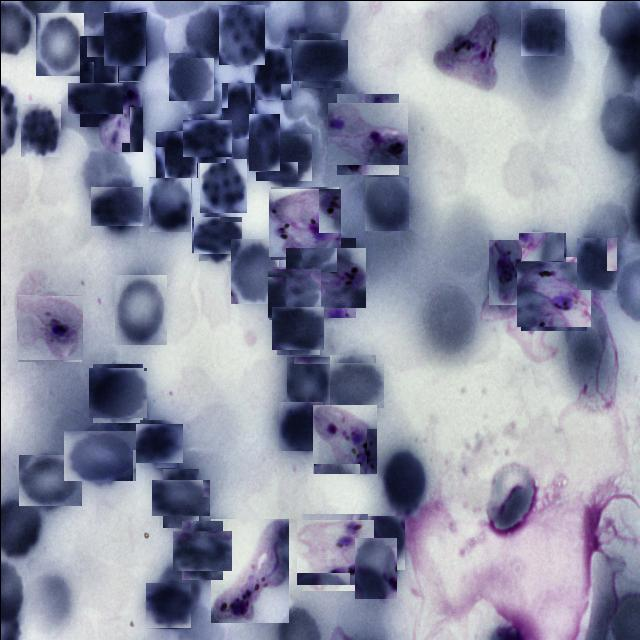red blood cell: (487, 459, 538, 536), (68, 424, 130, 486), (114, 274, 166, 344), (20, 451, 78, 508), (381, 447, 426, 517), (230, 238, 278, 303), (35, 12, 83, 75), (90, 366, 144, 420), (325, 358, 379, 411), (218, 4, 264, 64), (258, 130, 310, 182), (354, 538, 396, 600), (268, 266, 318, 318), (518, 231, 566, 284), (199, 158, 246, 212), (176, 524, 226, 574), (364, 176, 408, 230), (148, 176, 191, 231), (286, 355, 330, 408), (103, 11, 146, 65), (156, 474, 204, 522), (274, 304, 322, 352), (295, 36, 343, 84), (168, 51, 214, 100), (20, 102, 61, 156), (576, 236, 617, 289), (364, 515, 404, 569), (520, 8, 565, 56), (278, 401, 322, 450), (184, 8, 228, 57), (79, 35, 118, 90), (93, 182, 139, 228), (145, 582, 190, 628), (155, 130, 197, 177), (221, 81, 255, 138), (194, 212, 238, 256), (184, 116, 228, 160), (72, 76, 116, 120), (254, 47, 291, 99), (136, 422, 180, 464), (248, 114, 279, 172)
trophozoite: (210, 518, 288, 622), (298, 516, 370, 587), (332, 98, 402, 169), (289, 242, 360, 312), (518, 258, 588, 328), (269, 188, 339, 258), (434, 12, 498, 87), (312, 404, 377, 474), (17, 294, 82, 360), (98, 80, 142, 151), (488, 240, 521, 306)
